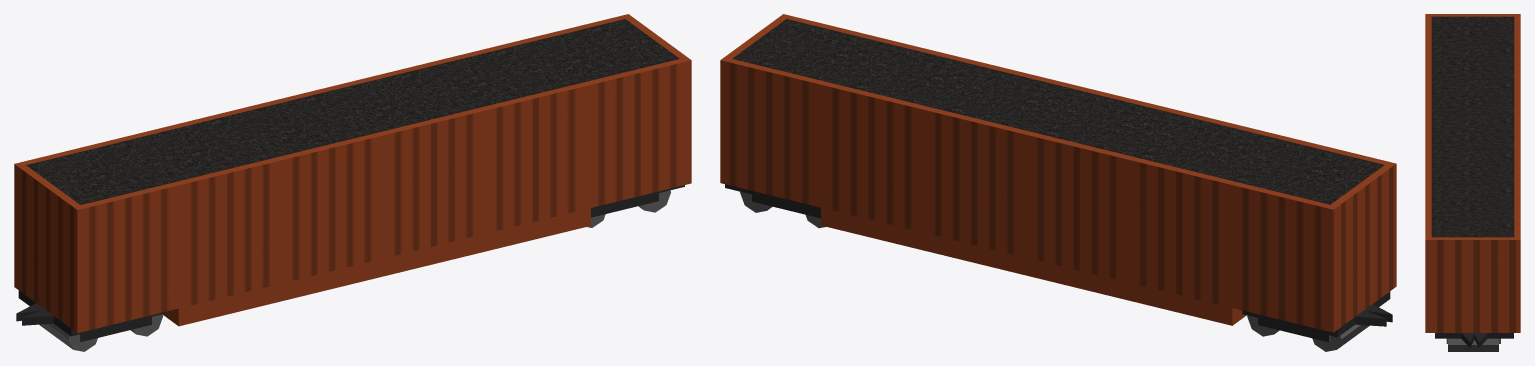
File: coalCar.gltf
3 views of the same model, side by side, from view 1: azimuth 30°, elevation 25°; view 2: azimuth 150°, elevation 25°; view 3: azimuth 270°, elevation 25° (orthographic). The views are drawn at different scales.
Parts seen in each view (by area): view 1: Object_4, Object_2, Object_6, Object_5, Object_7; view 2: Object_4, Object_2, Object_6, Object_5, Object_7; view 3: Object_2, Object_4, Object_6, Object_5, Object_7.
Boxes of the visible parts, x1,y1,x2,y2 form: Object_4: (14,60,691,333); Object_2: (26,19,679,204); Object_6: (14,14,691,326); Object_5: (16,185,684,341); Object_7: (39,190,670,351); Object_4: (720,60,1396,332); Object_2: (732,19,1384,204); Object_6: (720,14,1395,325); Object_5: (725,184,1392,342); Object_7: (740,192,1369,351); Object_2: (1431,16,1514,237); Object_4: (1425,240,1520,332); Object_6: (1425,14,1520,239); Object_5: (1435,333,1513,347); Object_7: (1446,338,1500,351).
Bounding box in the file's own units: 18.53 × 4.21 × 3.05.
5 materials, 2 textured.
